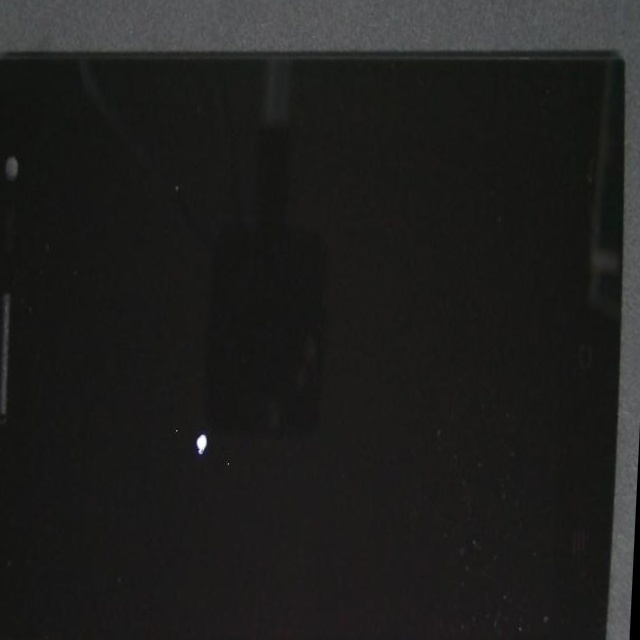stain: (8, 193, 341, 640)
